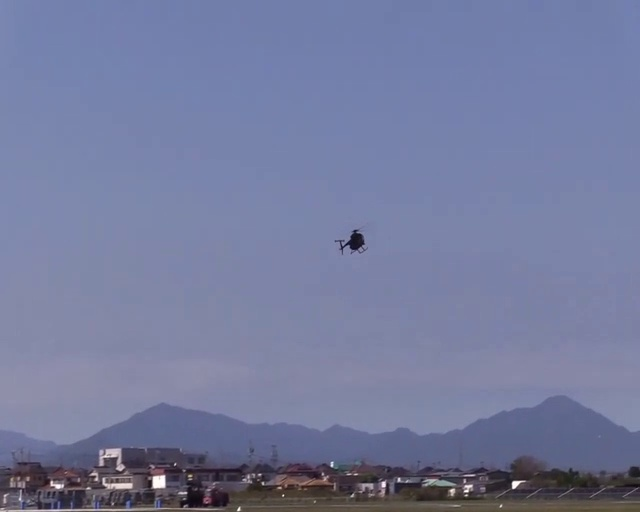HELICOPTER: (334, 226, 368, 254)
